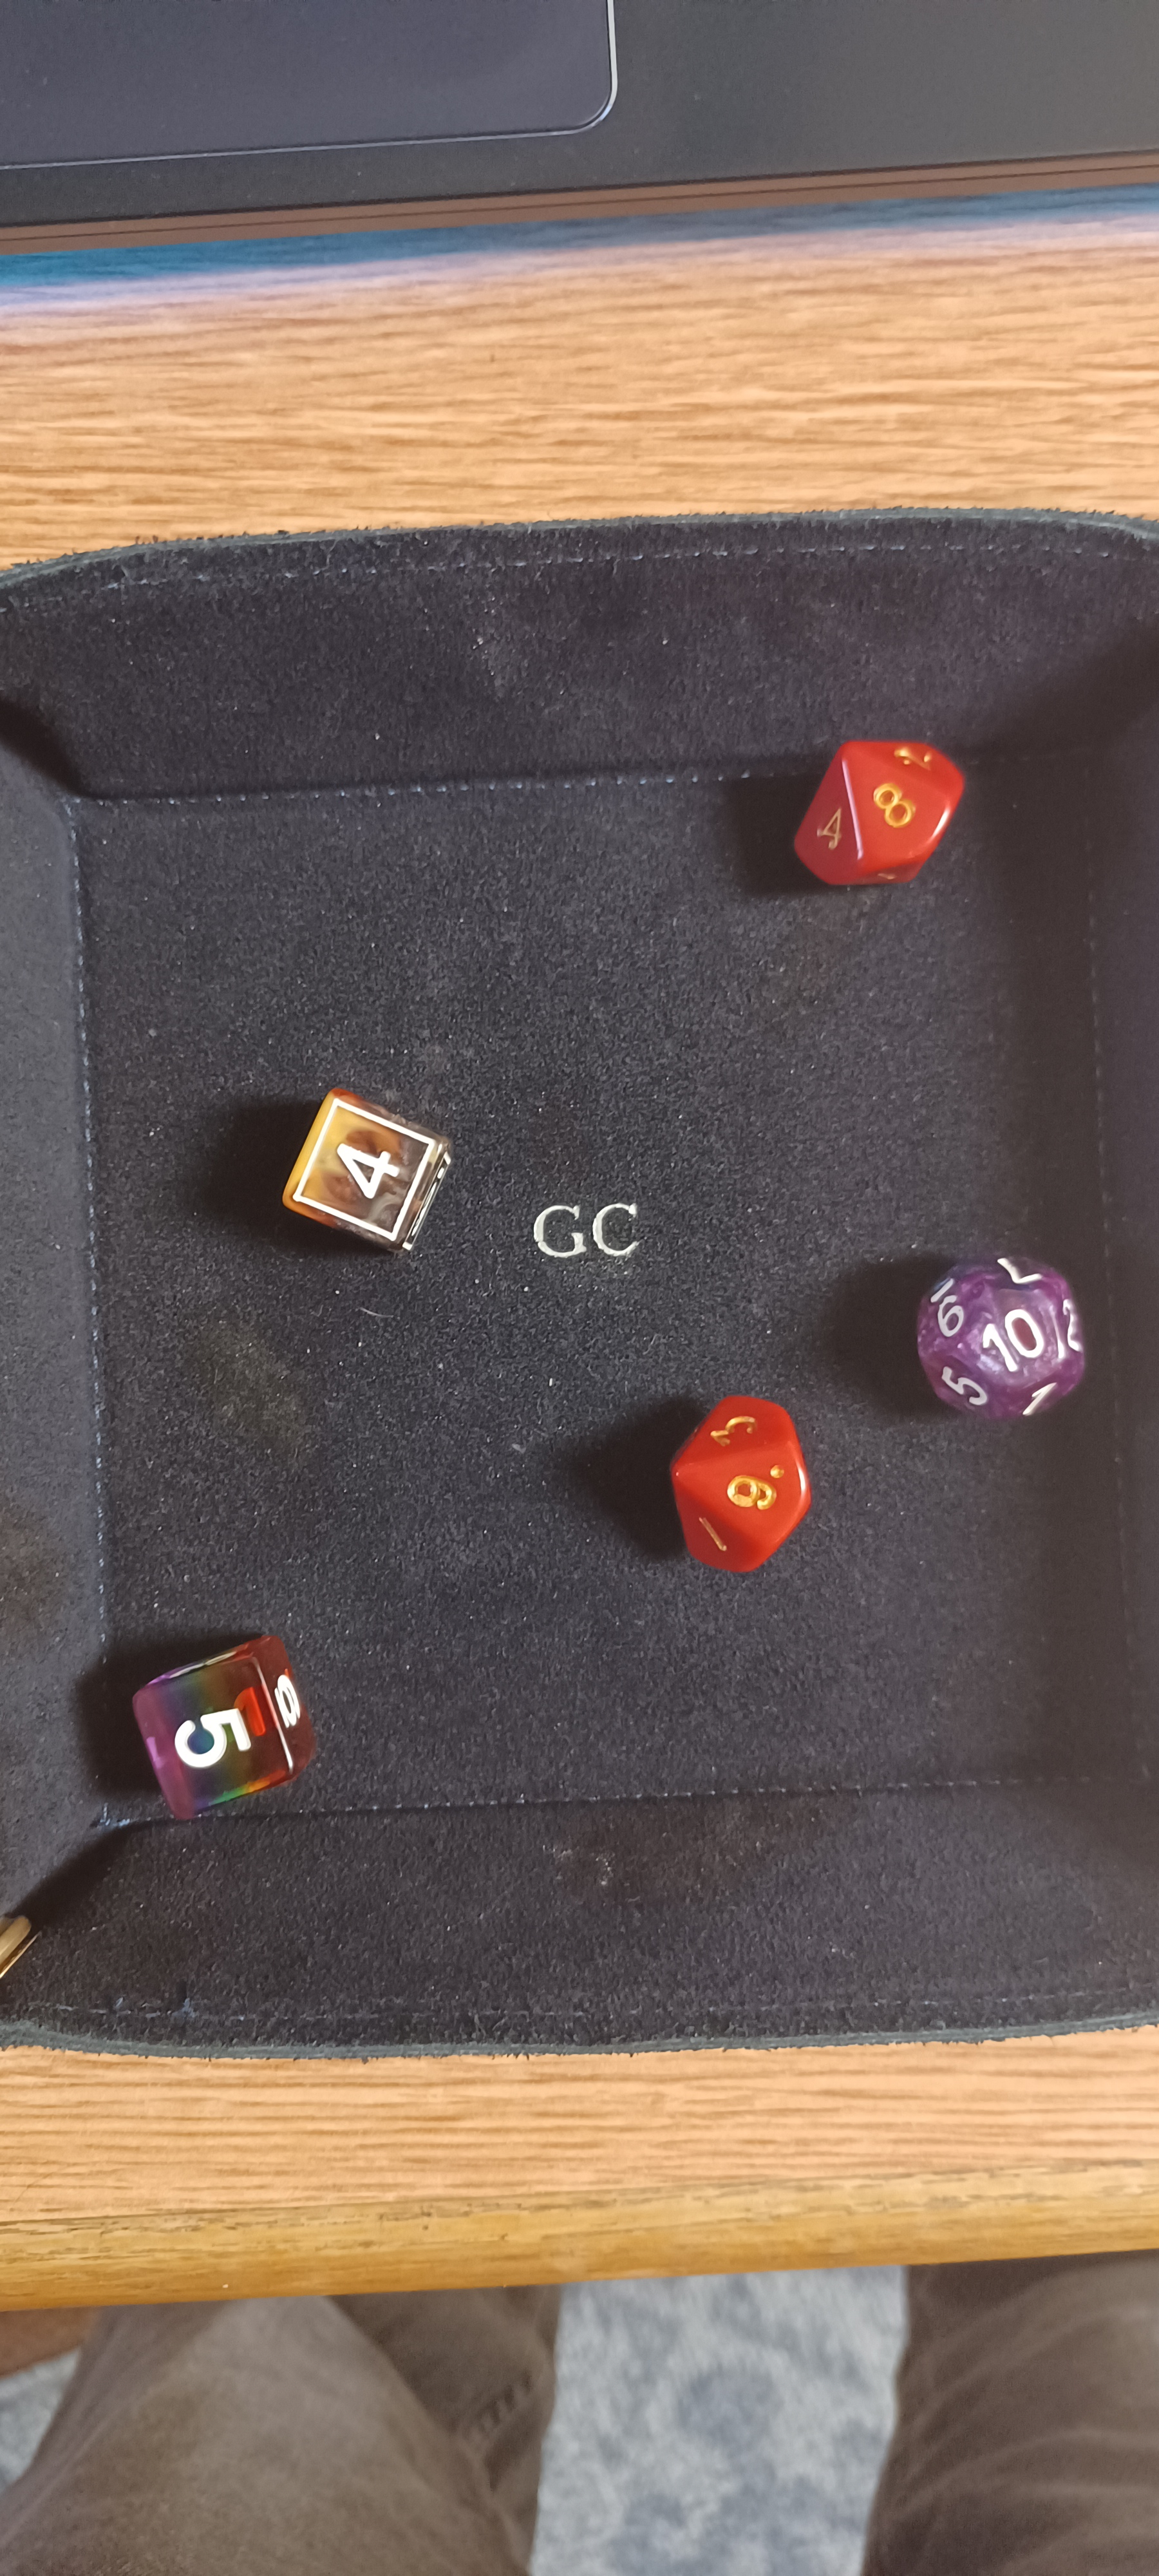eight: (760, 697, 1006, 923)
five: (87, 1576, 351, 1865)
four: (259, 1053, 486, 1280)
nine: (629, 1377, 852, 1590)
ten: (880, 1222, 1126, 1444)
